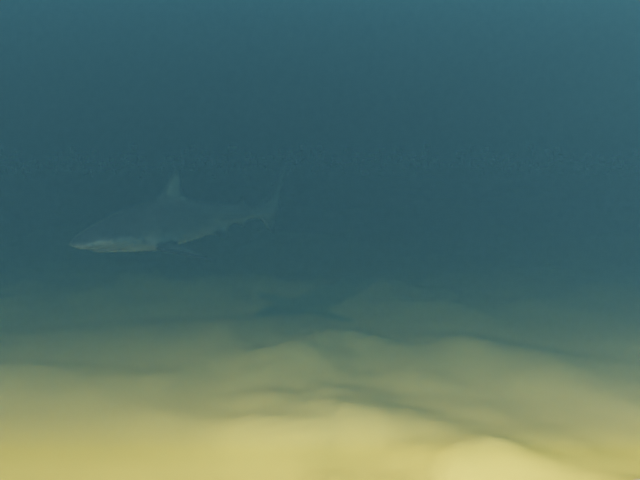Carribean Shark.001: (69, 166, 286, 260)
